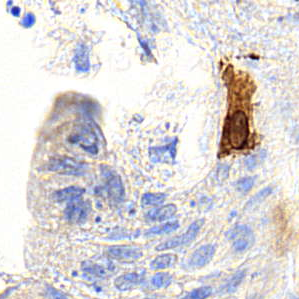Lymphocyte: (222, 106, 260, 152)
